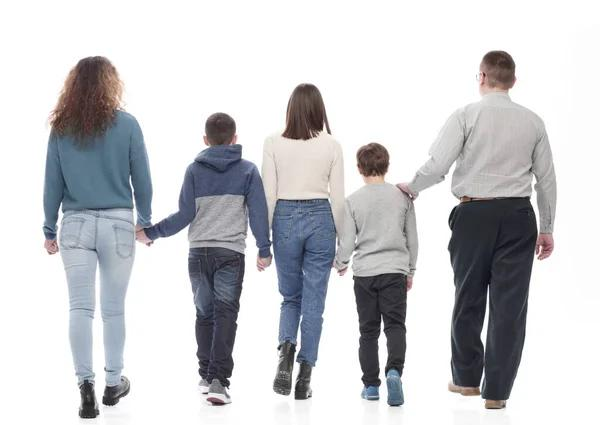long sleeve shirt: (408, 91, 558, 237), (261, 131, 346, 249)
sweater: (42, 101, 152, 241), (148, 142, 271, 257), (335, 179, 420, 284)
trousers: (446, 196, 540, 402), (58, 205, 139, 384), (272, 195, 338, 367), (186, 245, 246, 388), (354, 271, 410, 387)
